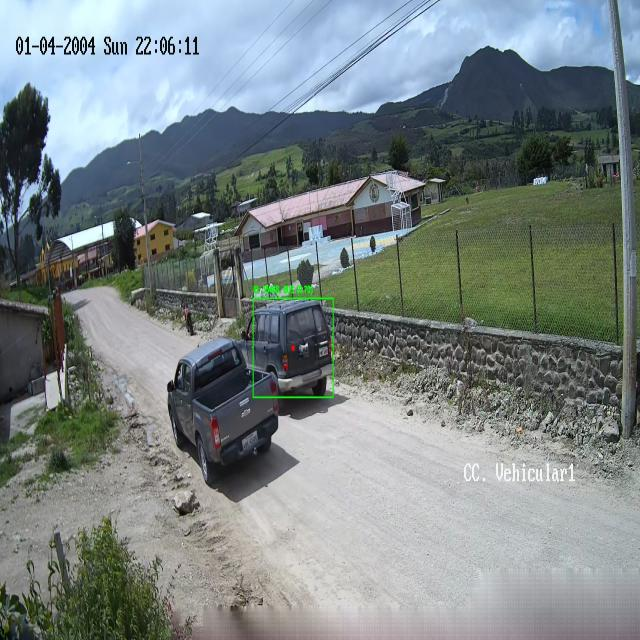CMT: (168, 339, 278, 470)
